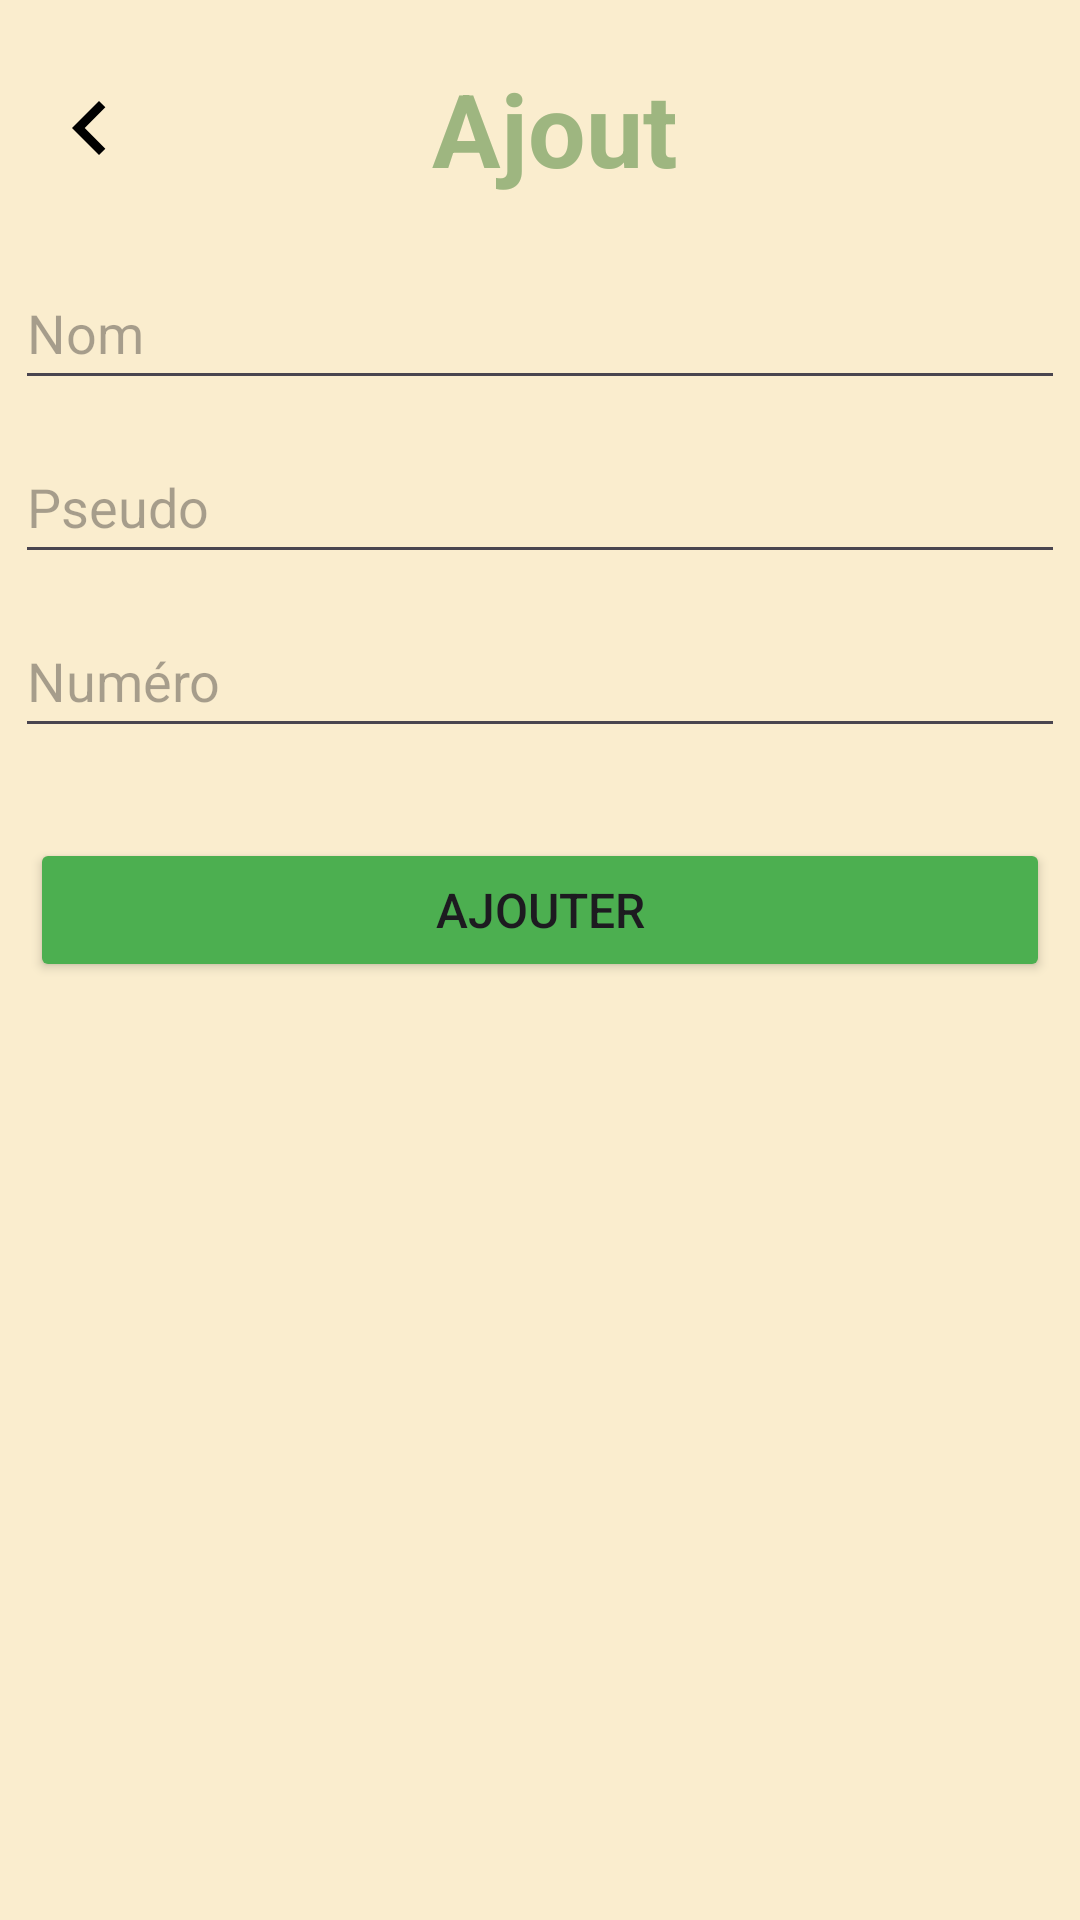

Where icons sit on this 1080x1920 app screen, as (x1, y1, x2, y2):
keyboard arrow left: (72, 101, 106, 155)
